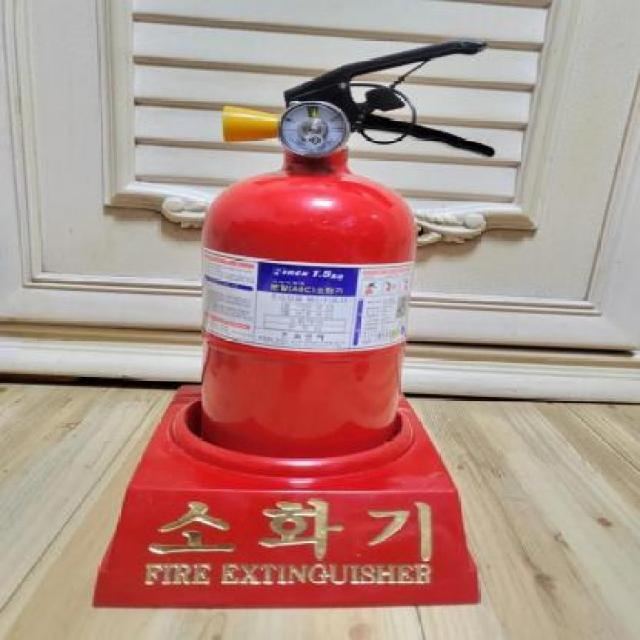fire extinguisher: (199, 38, 496, 458)
